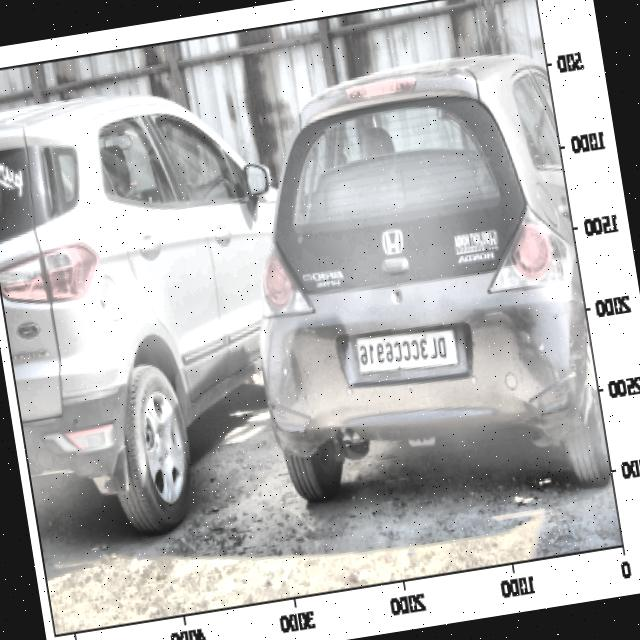license_plate: (352, 322, 453, 381)
